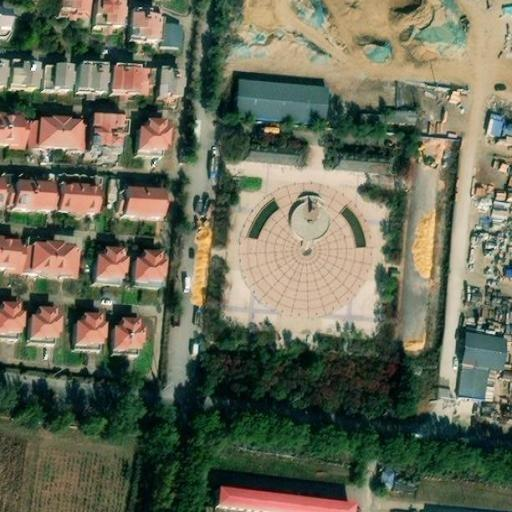building: (236, 79, 328, 126), (277, 185, 340, 248), (219, 488, 356, 512), (22, 240, 80, 275), (26, 115, 83, 150), (459, 331, 510, 370), (375, 461, 421, 498), (233, 143, 302, 166), (324, 153, 389, 177), (92, 113, 130, 154), (120, 186, 171, 216), (7, 181, 57, 208), (127, 252, 164, 288), (113, 316, 146, 354), (89, 249, 123, 285), (74, 312, 108, 346), (456, 365, 489, 400), (31, 306, 63, 341), (109, 63, 146, 92), (127, 14, 158, 47), (93, 0, 123, 34), (60, 183, 97, 210), (141, 118, 172, 150), (151, 67, 184, 96), (41, 61, 75, 89), (78, 62, 110, 90), (11, 60, 42, 88), (0, 303, 26, 336), (484, 114, 512, 139), (162, 24, 184, 50), (386, 108, 417, 124), (100, 173, 115, 204), (0, 3, 12, 39), (61, 0, 87, 16), (432, 383, 452, 400)
